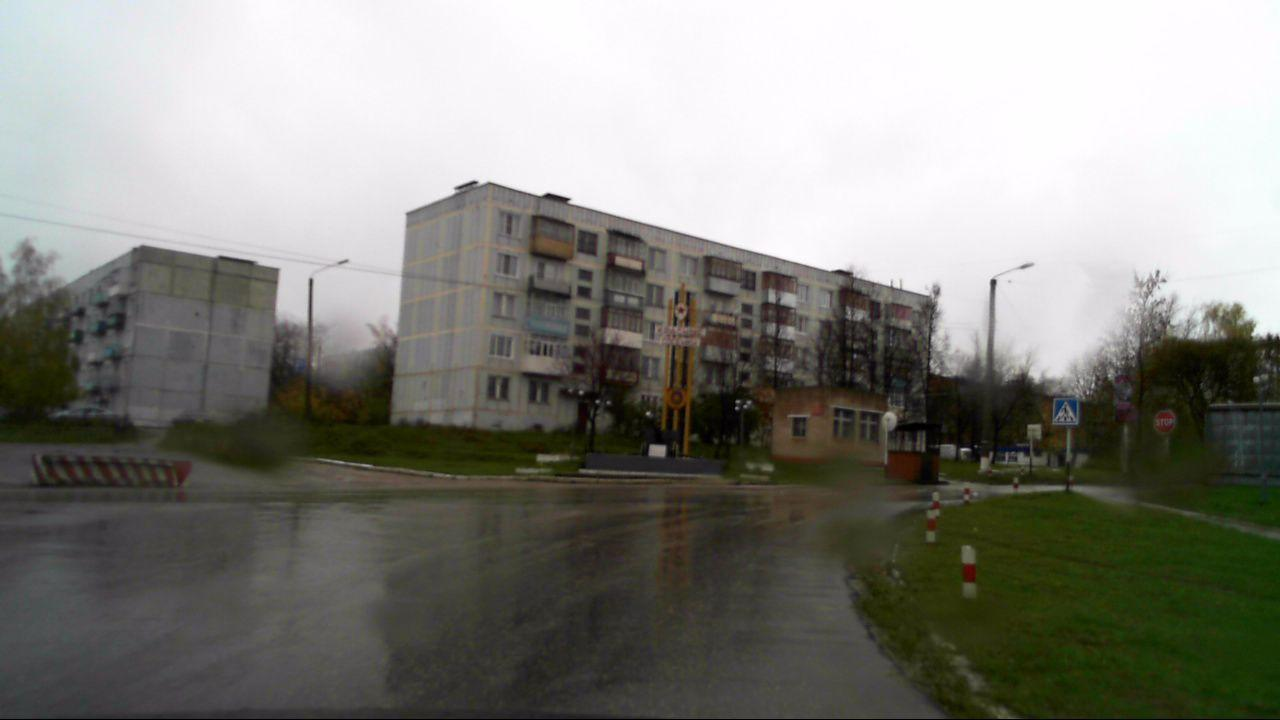road_sign: (1051, 395, 1079, 428), (1153, 410, 1177, 434)
